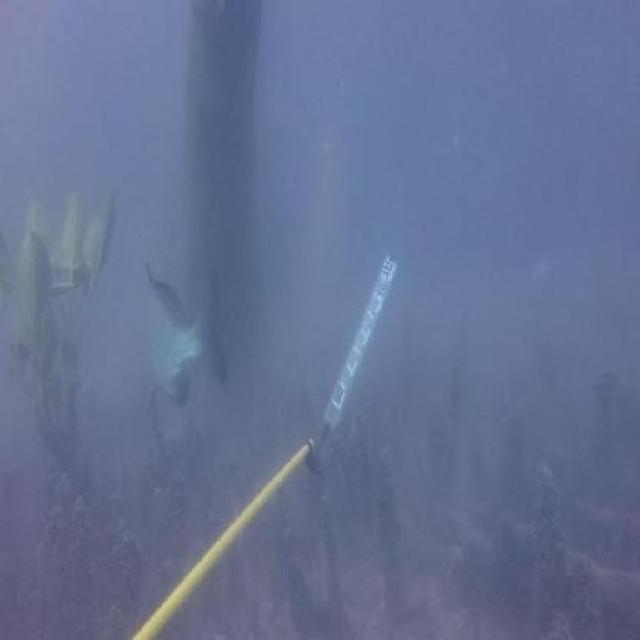acanthopagrus_palmaris: (138, 246, 230, 406)
